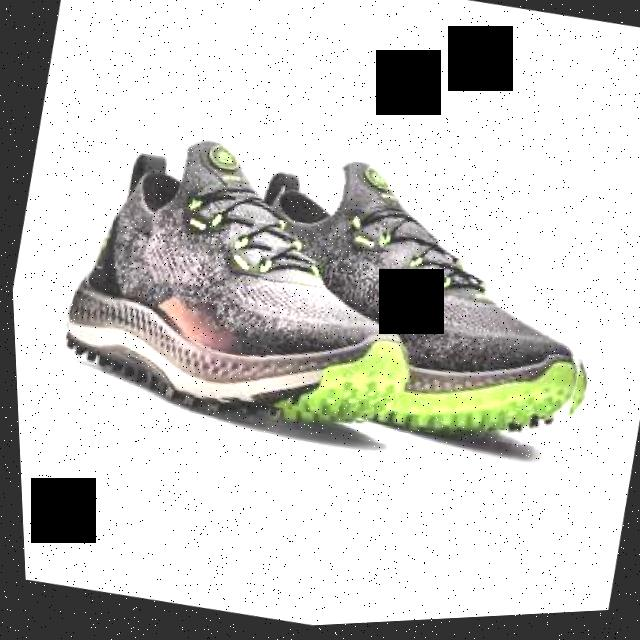shoe: (189, 130, 624, 477), (44, 109, 461, 466)
